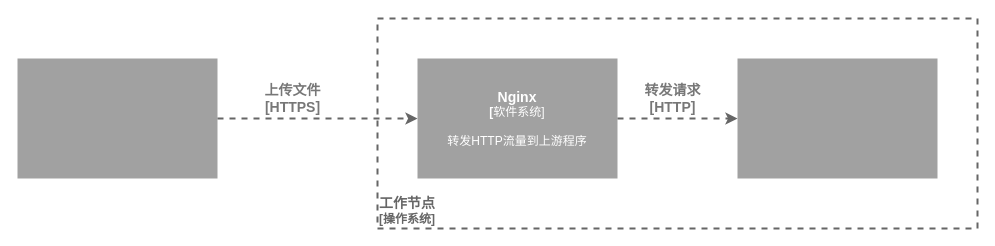
Image size: 995x246. Some labels were removed from this diagram. The shapes that lost their labels are listed below. From the top down, each one's centre as x and y in pixels, then its label:
[117,118]: 下游文件上传程序 [ 软件系统] 通过HTTP请求发送文件给上游程序
[837,118]: 文件接收程序 [ 软件系统] 接收文件上传请求并处理
